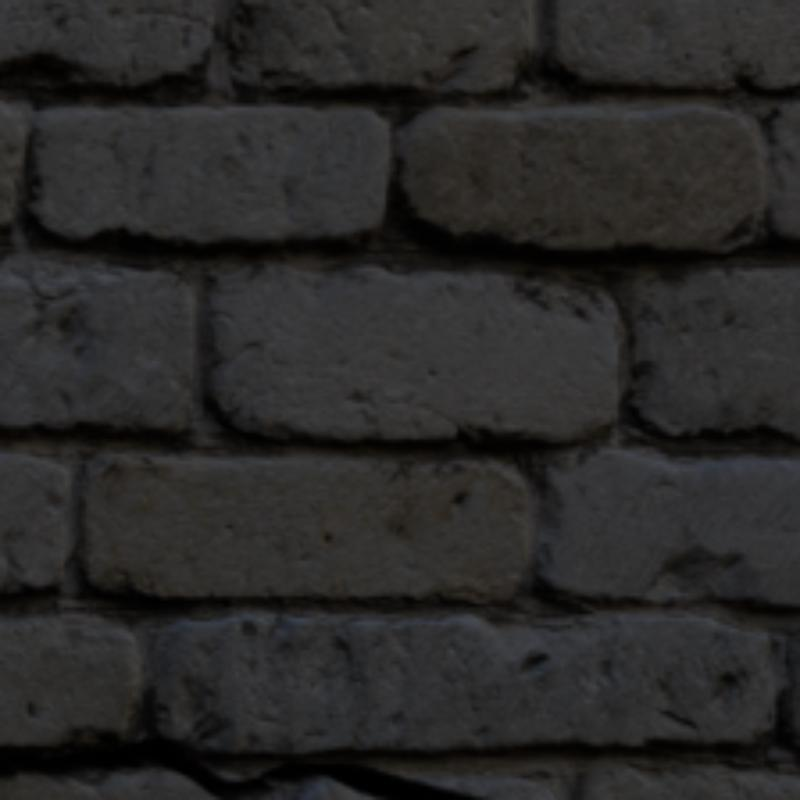crack: (0, 739, 479, 796)
